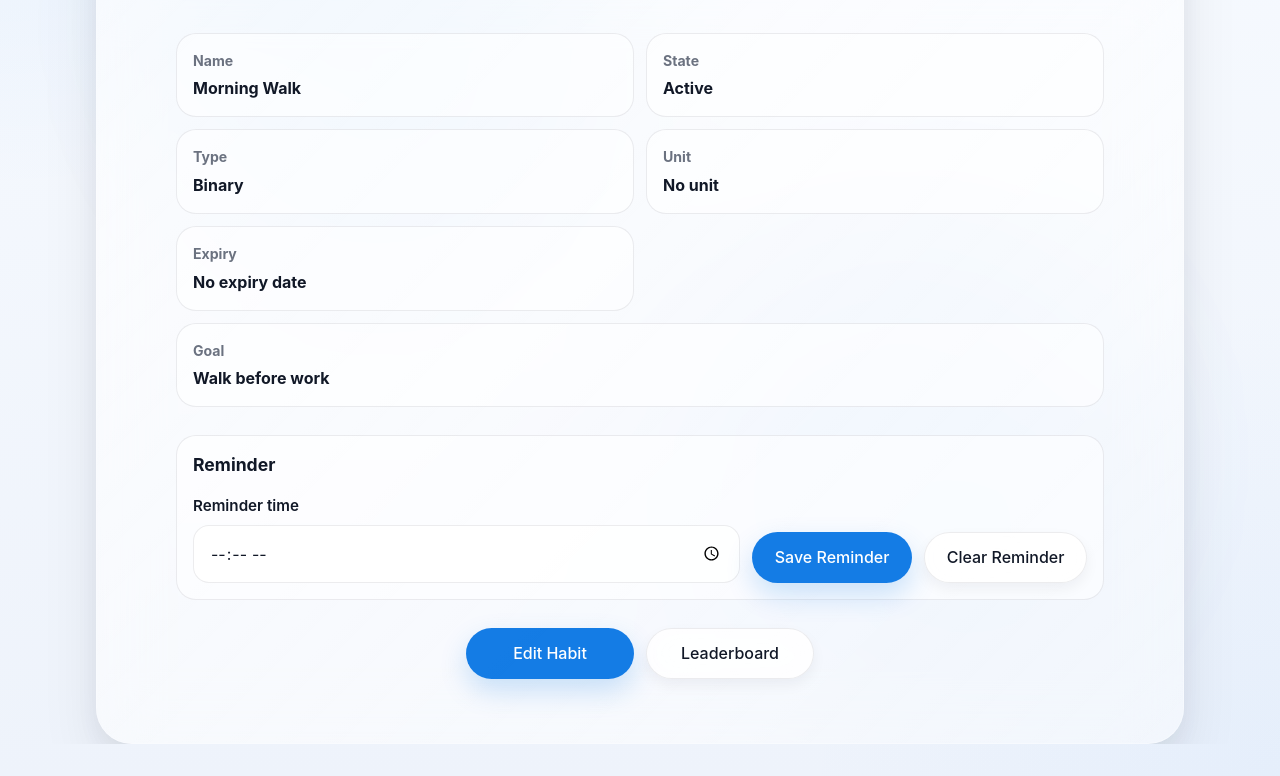
Test case: saves a reminder time
(page scrolled)
Type "07:30" into the time field labelled "Reminder time".
click(467, 554); type("07:30")  # box [193, 525, 740, 583]
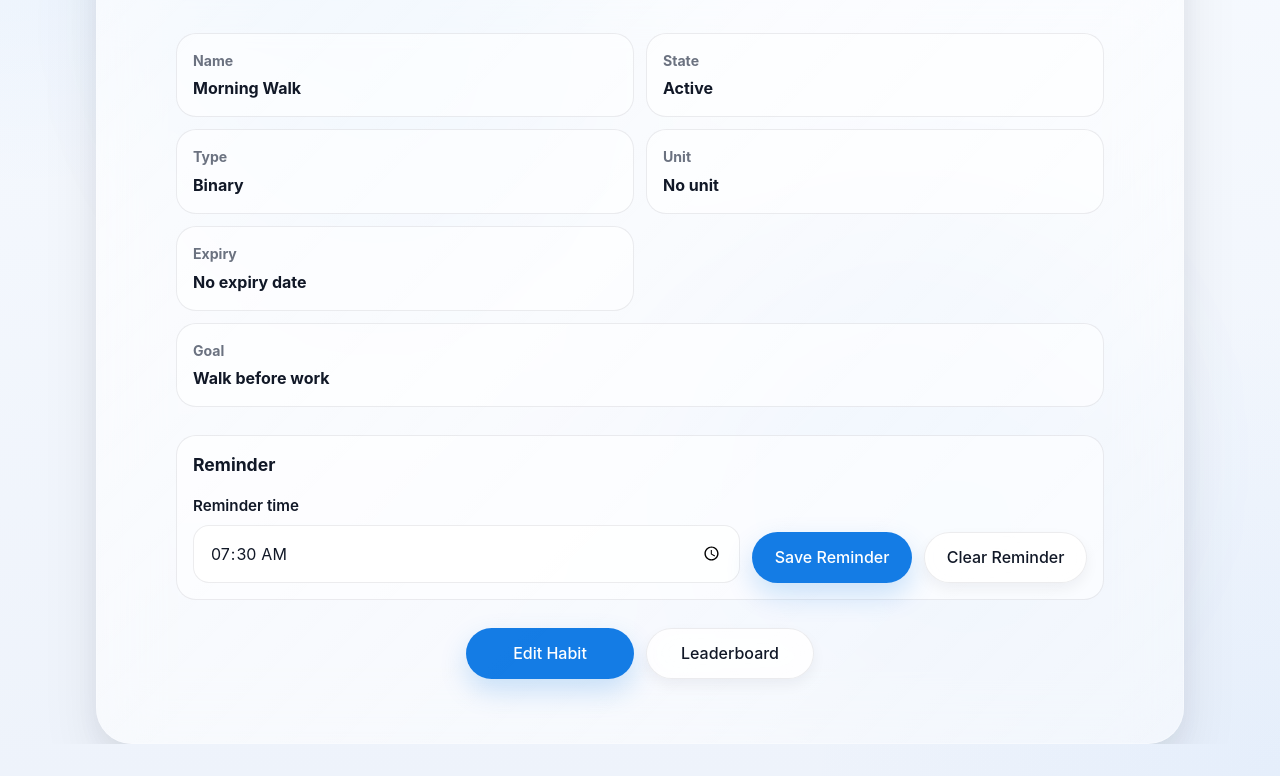
Click the button "Save Reminder".
click(832, 558)  # box [752, 532, 912, 583]
(page scrolled)
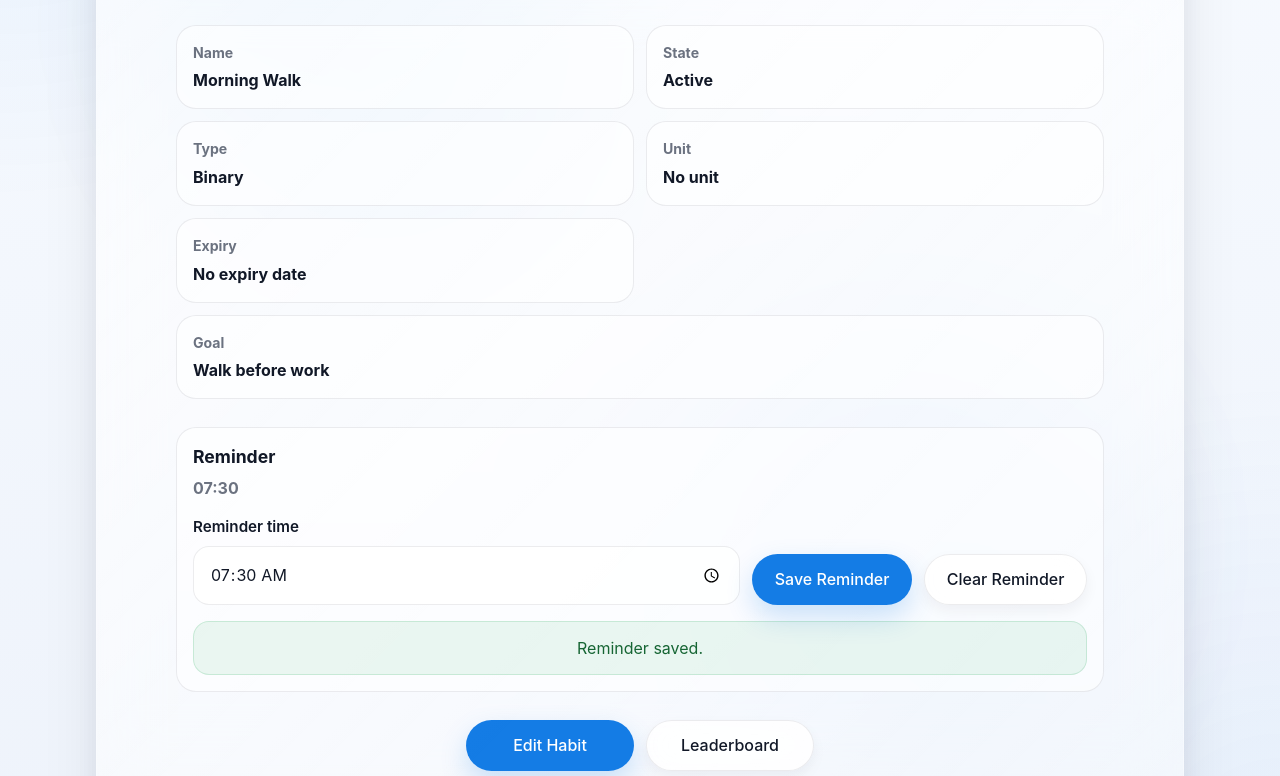
Expected: the text "Reminder saved." is shown, [193, 621, 1087, 676]
